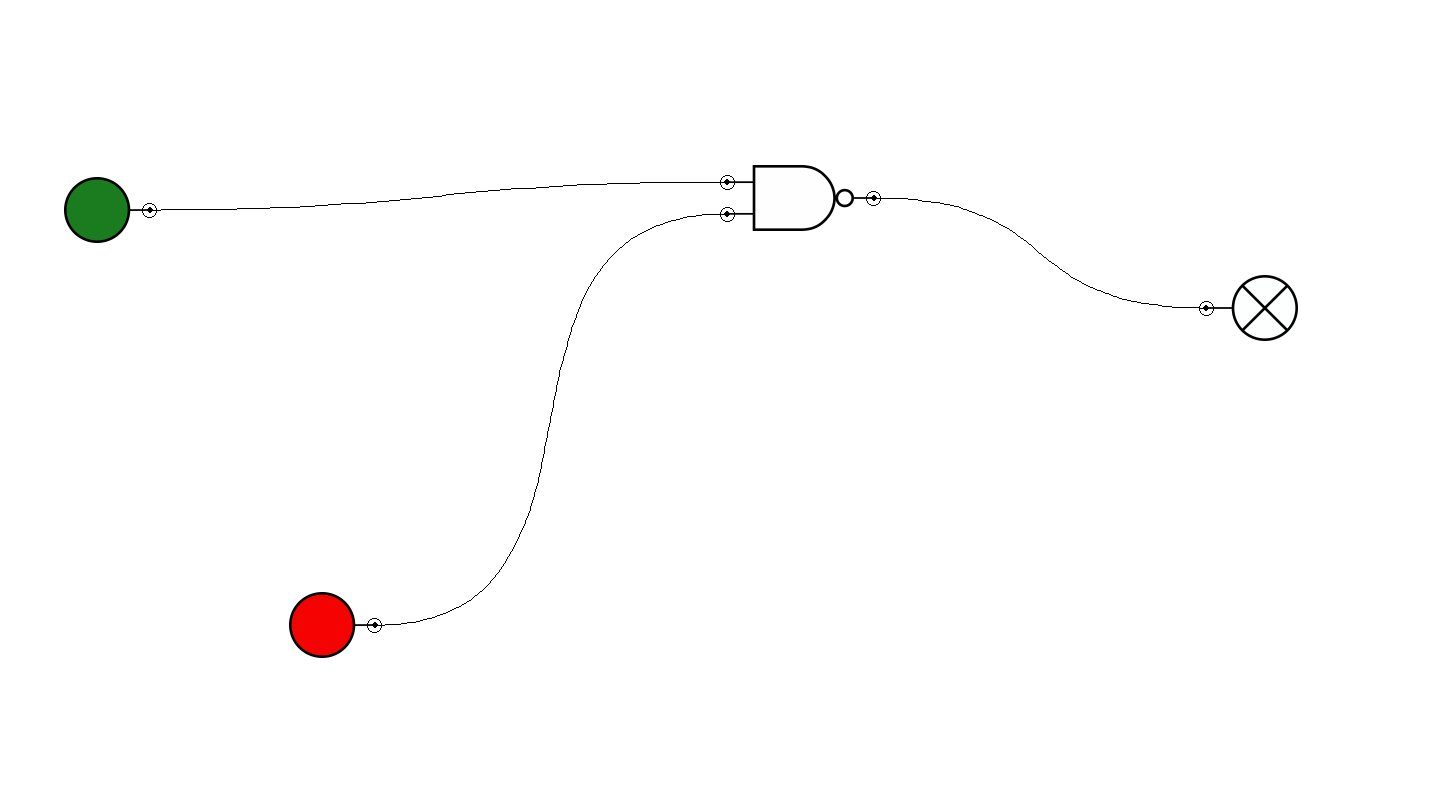bulb: (1199, 275, 1298, 341)
nand: (720, 165, 881, 231)
switch_False: (289, 592, 382, 658)
switch_True: (64, 177, 157, 243)
